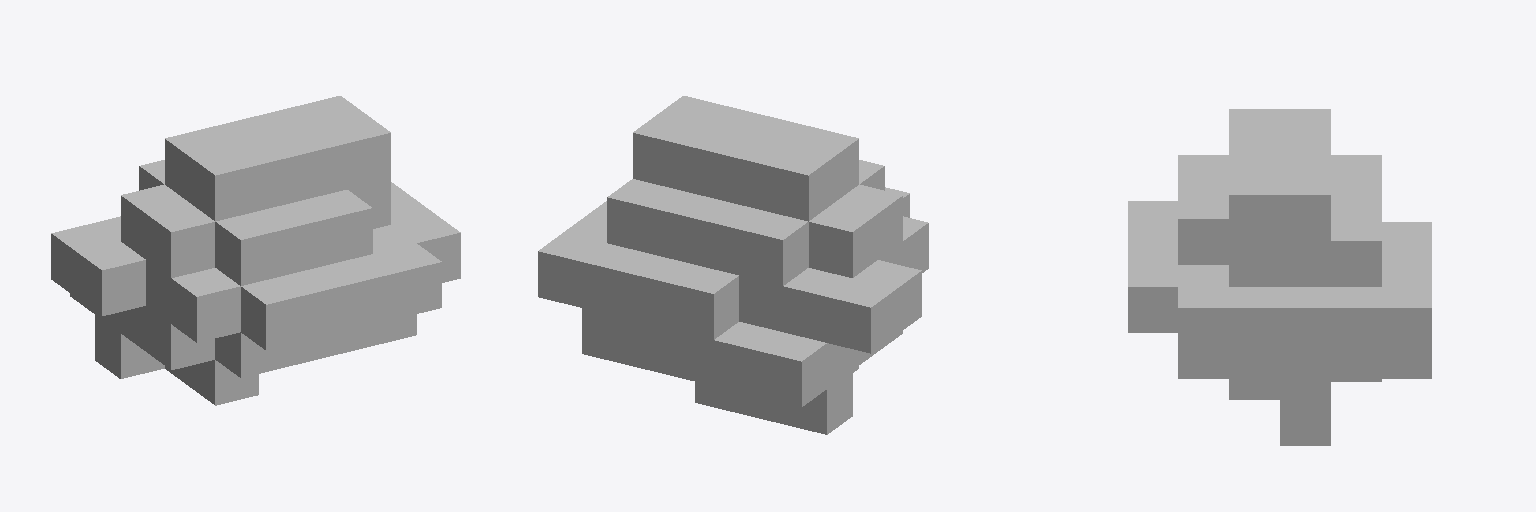
File: Rock1.obj
The picture shows the model from 3 angles: view 1: azimuth 30°, elevation 25°; view 2: azimuth 150°, elevation 25°; view 3: azimuth 270°, elevation 25°; orthographic projection.
Visible parts, largest first — view 1: object 1; view 2: object 1; view 3: object 1.
Part boxes in pixels (left/top/right/bottom): object 1: left=51, top=96, right=460, bottom=405; object 1: left=538, top=96, right=928, bottom=434; object 1: left=1128, top=109, right=1431, bottom=445.
Size of the model in its own units: 0.7 by 0.5 by 0.6.